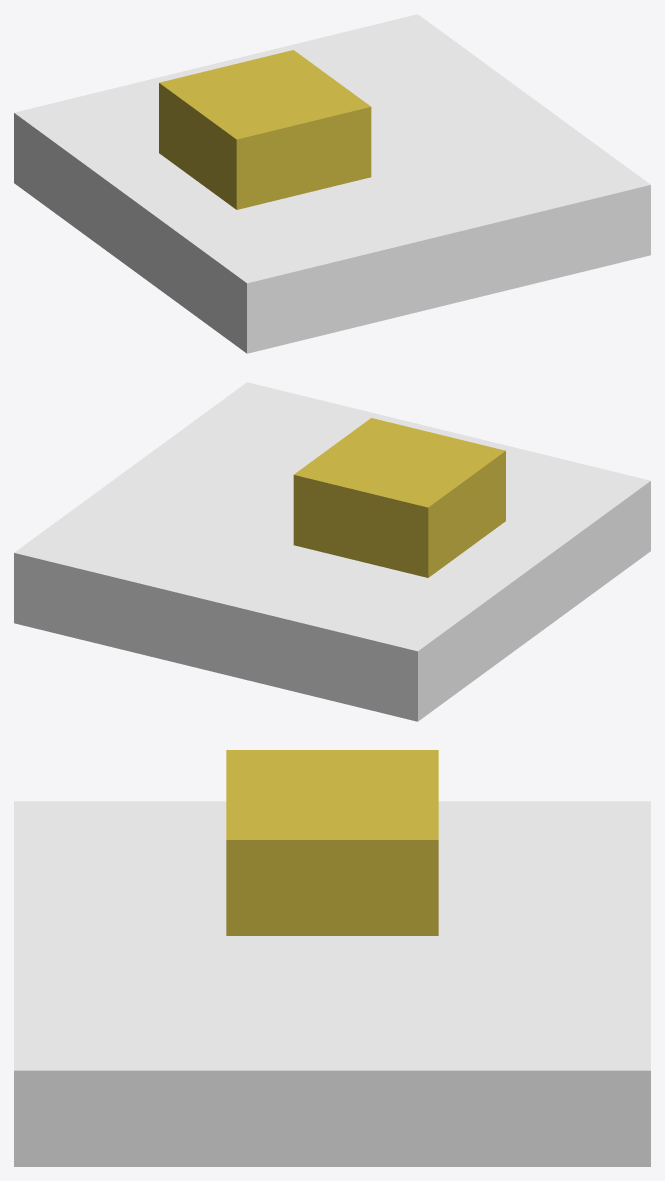
File: ouOchi.fbx
3 views of the same model, one above another, from view 1: azimuth 30°, elevation 25°; view 2: azimuth 150°, elevation 25°; view 3: azimuth 270°, elevation 25° (orthographic). The views are drawn at different scales.
Parts seen in each view (by area): view 1: cube, cube_1; view 2: cube, cube_1; view 3: cube, cube_1.
Boxes of the visible parts, x1,y1,x2,y2 form: cube: [14, 14, 650, 353]; cube_1: [159, 50, 371, 209]; cube: [14, 382, 650, 721]; cube_1: [293, 418, 505, 577]; cube: [14, 801, 650, 1166]; cube_1: [226, 750, 438, 935].
Bounding box in the file's own units: 37.5 × 12.5 × 37.5.
Materials: 1 (1 with a texture image).
